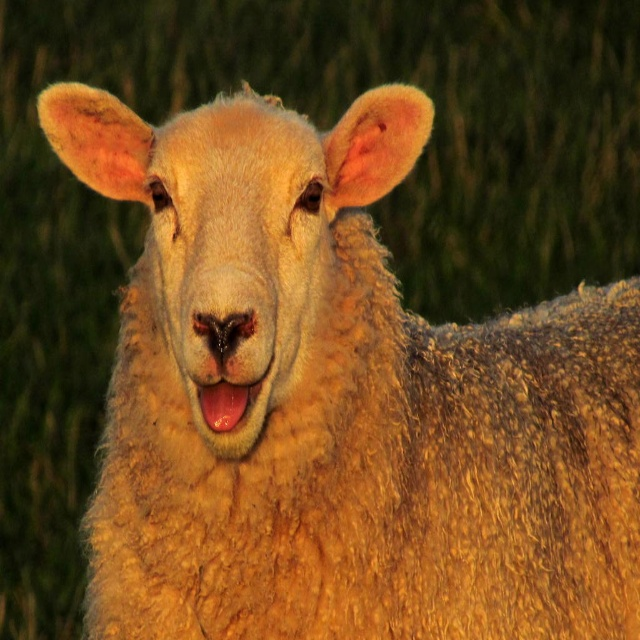Sheep: (31, 73, 640, 638)
